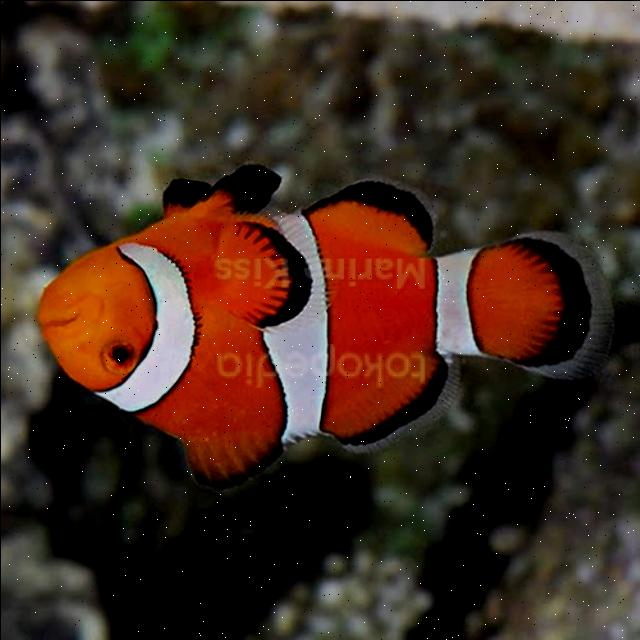Mulut: (12, 288, 112, 358)
Sirip Anal: (298, 164, 442, 264)
Sirip Dada: (208, 204, 348, 358)
Sirip Ekor: (464, 200, 626, 400)
Sirip Perut: (142, 148, 304, 228)
Sirip Punggung: (163, 355, 449, 507)
